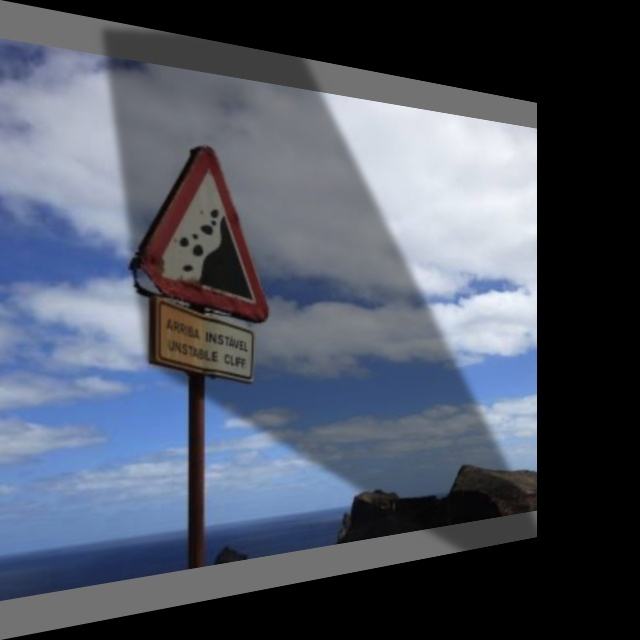Falling_Rocks: (134, 136, 270, 312)
